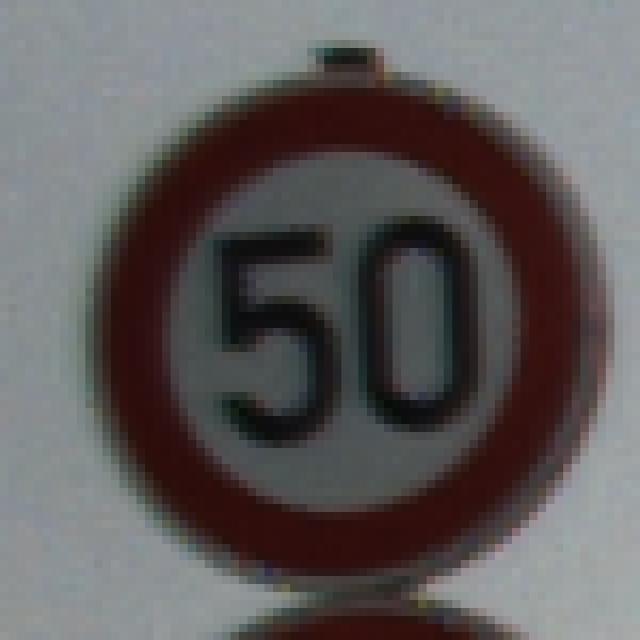speed limit 50: (74, 51, 608, 599)
